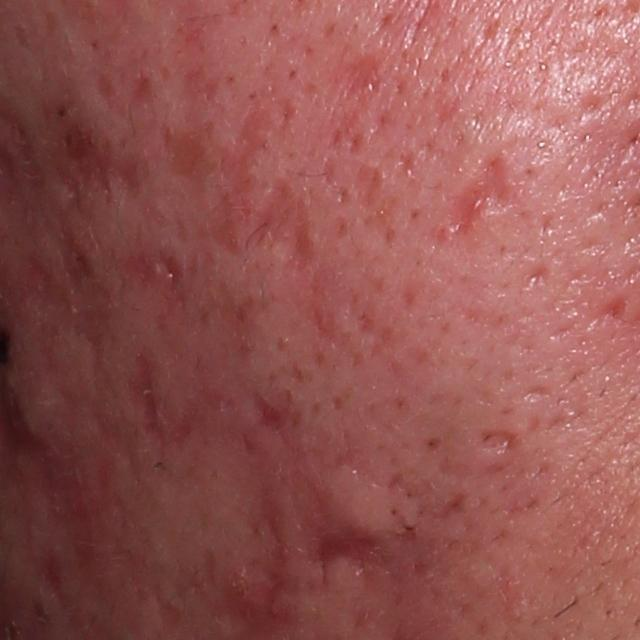atrophic_scar: (159, 86, 312, 273), (39, 24, 152, 213), (302, 517, 430, 583), (452, 152, 520, 248), (349, 165, 398, 250), (324, 47, 388, 105), (592, 289, 628, 332), (477, 421, 518, 454), (519, 264, 547, 288)
hypertrophic_scar: (323, 462, 423, 541)
